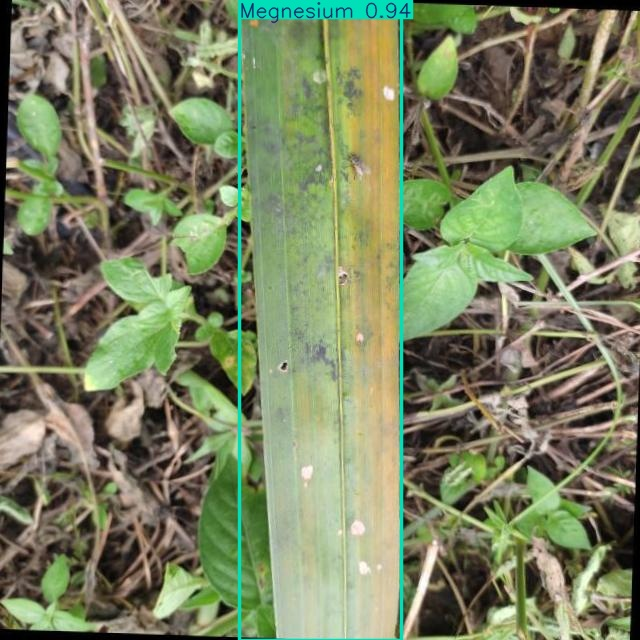Megnesium: (239, 0, 401, 640)
